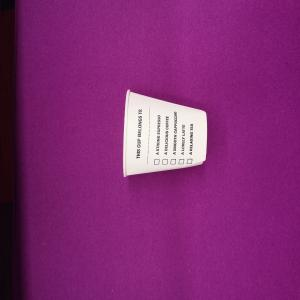Cup: (124, 90, 209, 181)
